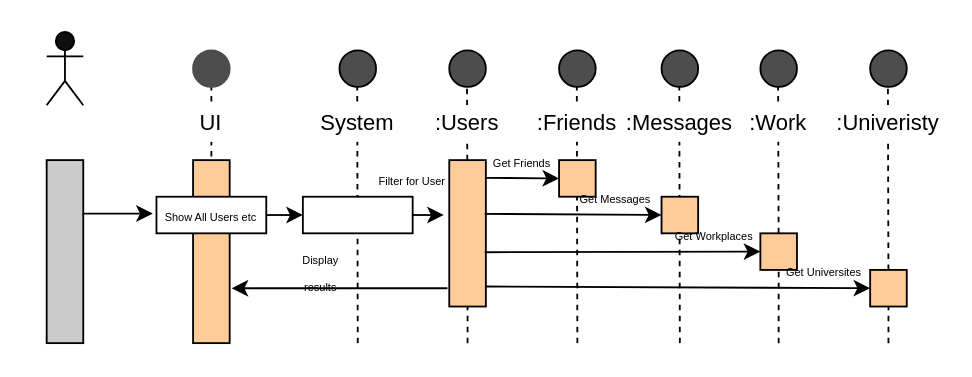
The diagram is 972 pixels wide and 377 high, and some of its shapes have lost their labels. Here are the shapes that lost their labels. From the top down, the box of each, then its label:
(45, 30, 83, 105): :Admin
(301, 195, 413, 233): Search User ID
